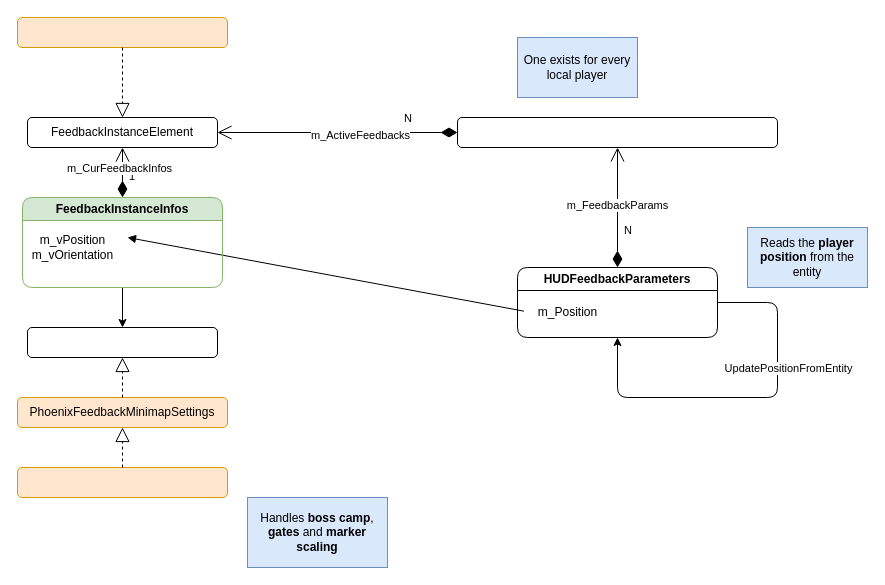
The diagram is 885 pixels wide and 585 high, and some of its shapes have lost their labels. The centre of each missing label's shape, as x and y in pixels:
"PhoenixFeedbackInstanceElement::ActiveFeedback" belongs at point 617,132.
"PhoenixFeedbackMinimap" belongs at point 122,32.
"PhoenixFeedbackMinimapPlayer" belongs at point 122,482.
"PhoenixFeedbackSettings" belongs at point 122,342.
